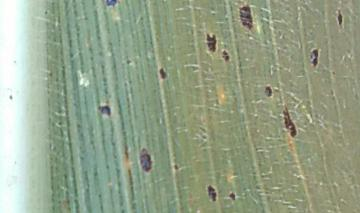tarspot: (280, 106, 297, 139), (239, 5, 254, 31), (138, 148, 152, 173), (205, 32, 217, 54), (205, 184, 218, 203), (310, 46, 319, 68), (98, 104, 112, 118), (157, 66, 169, 80), (220, 49, 232, 62), (263, 84, 274, 98), (336, 9, 343, 28), (105, 1, 119, 9), (227, 191, 237, 201), (124, 57, 133, 66), (41, 8, 49, 16), (173, 163, 180, 171)
